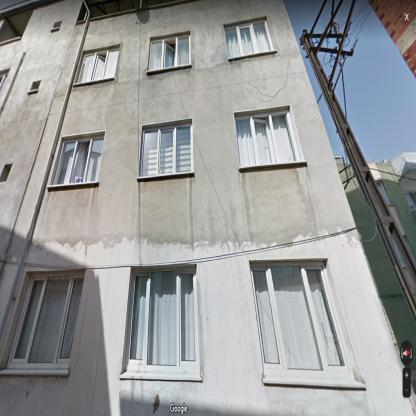window: (250, 263, 352, 381), (125, 268, 198, 376), (6, 272, 84, 369), (235, 111, 300, 169), (140, 124, 192, 176), (52, 136, 104, 184), (224, 20, 272, 58), (77, 48, 119, 83), (149, 35, 190, 70), (1, 73, 7, 93)
